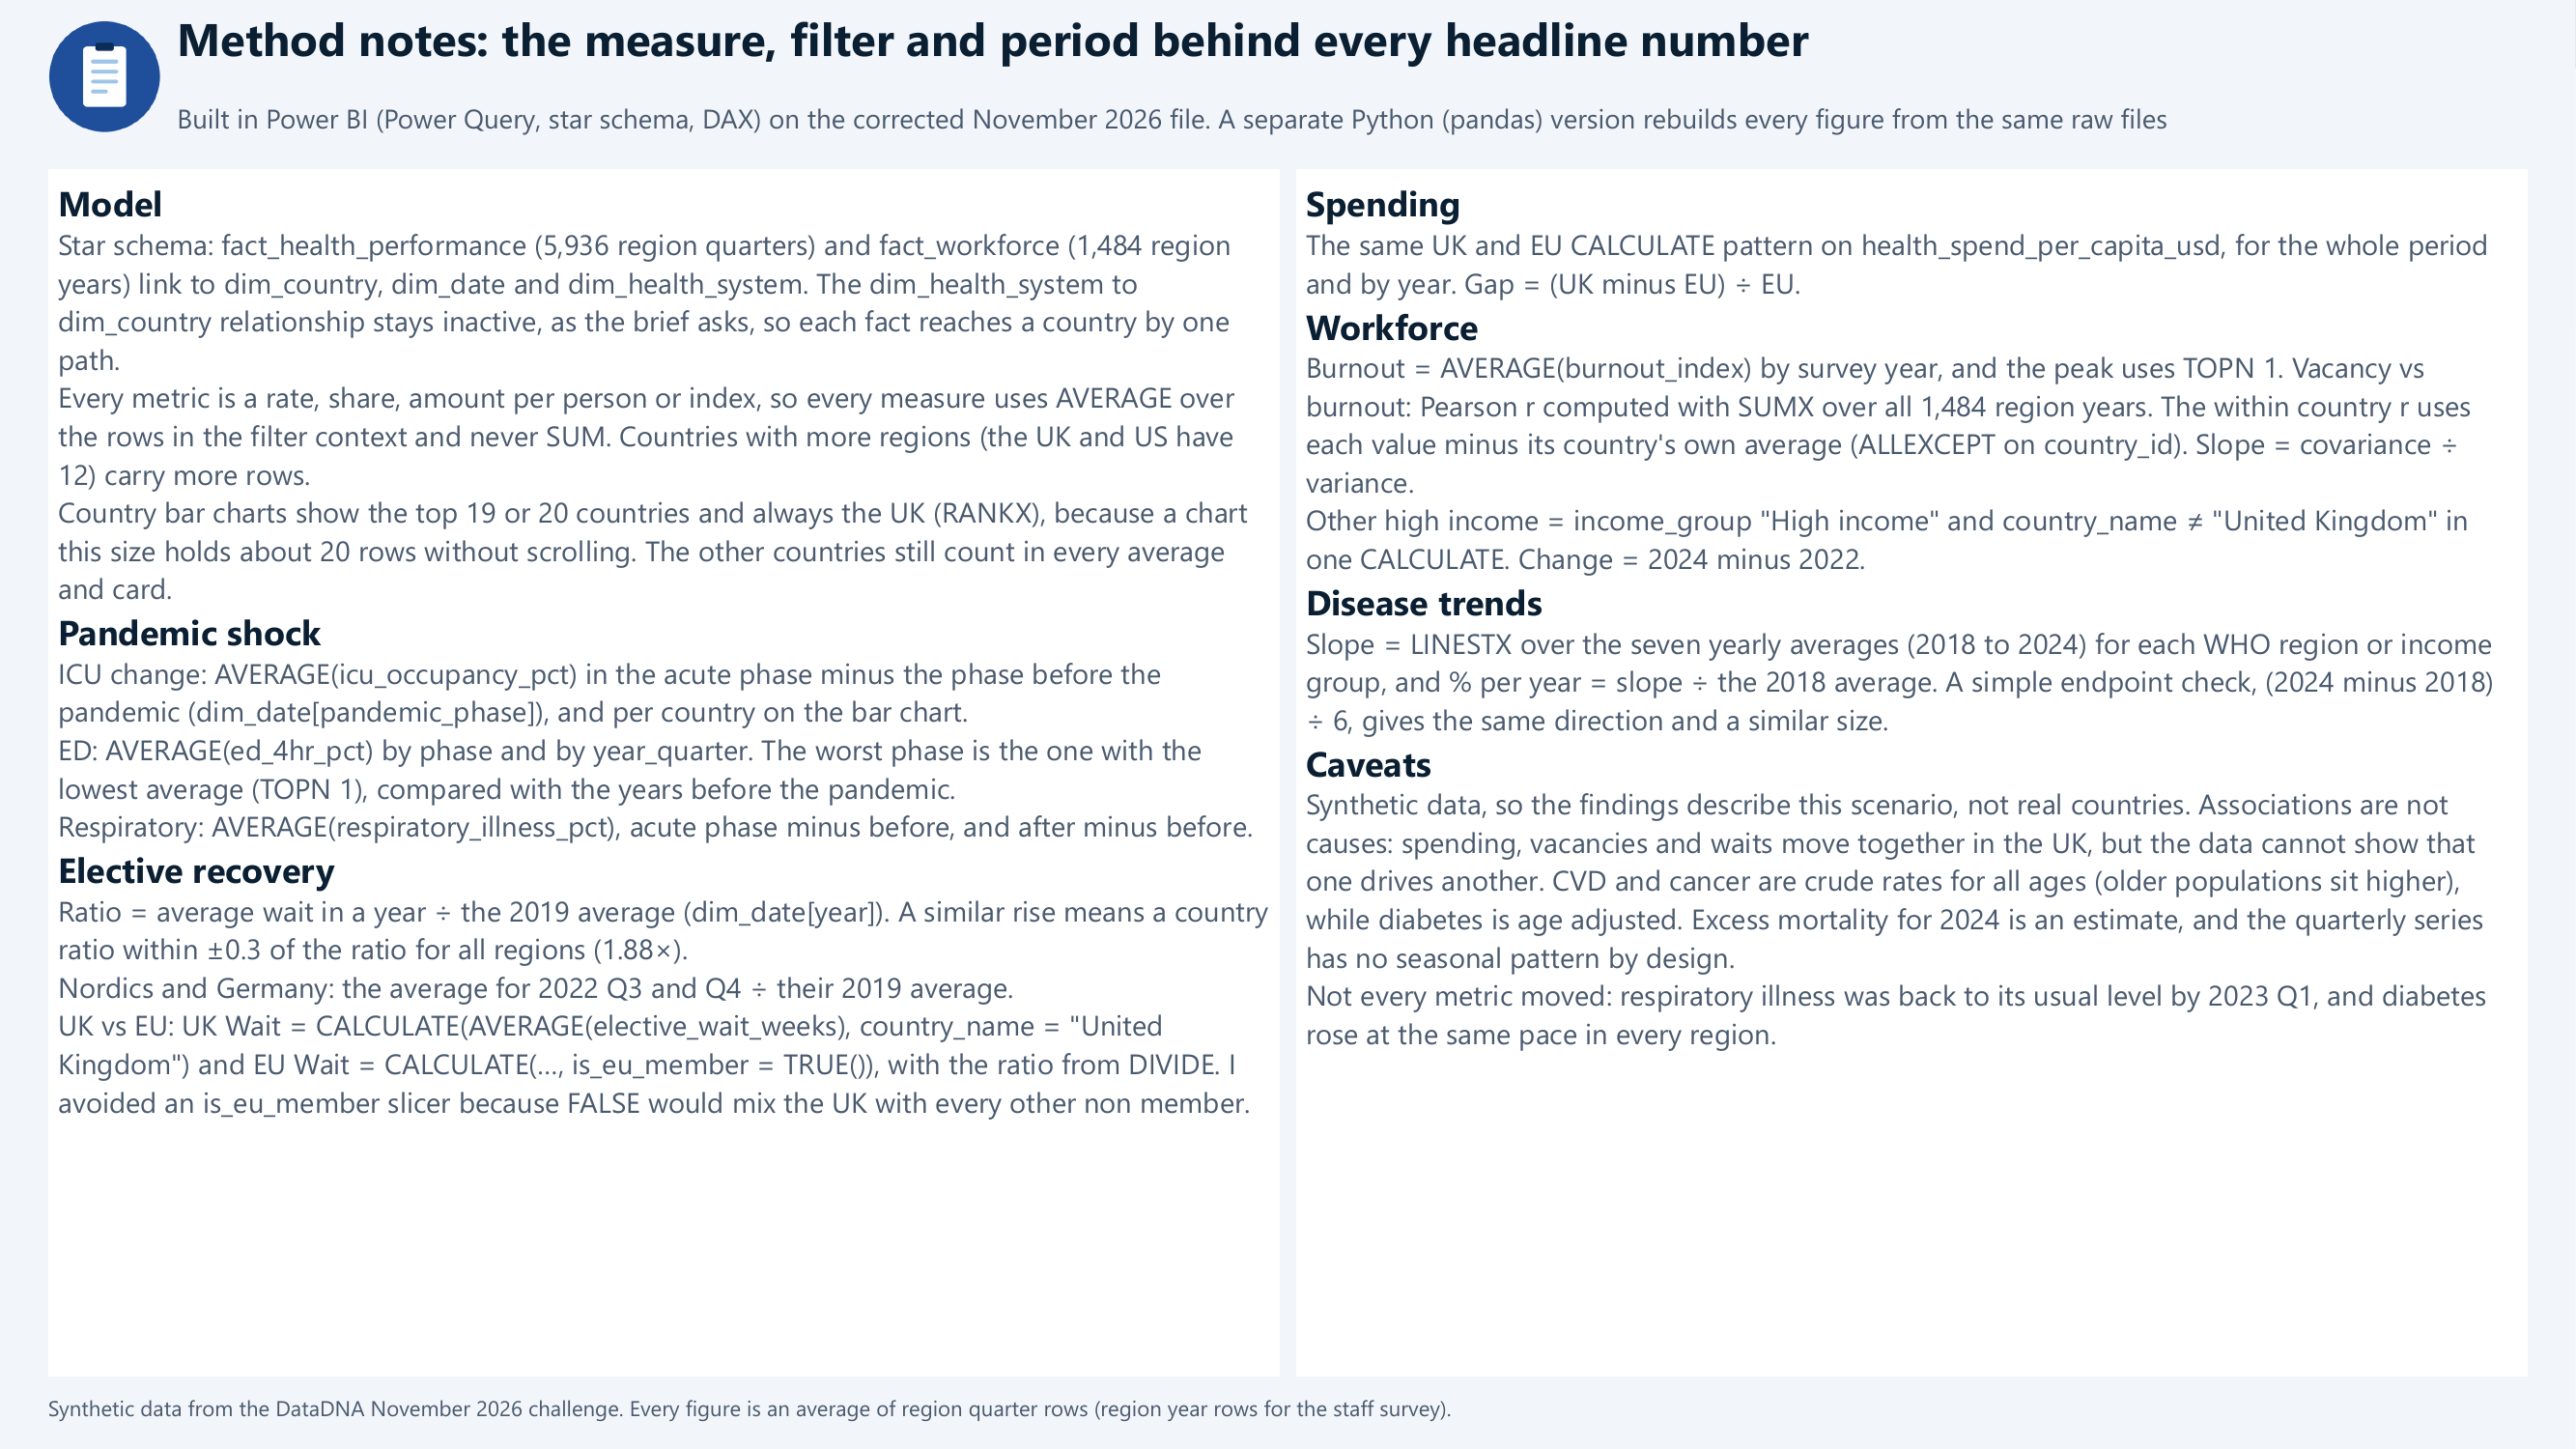

The page's visual inventory and layout, read from the dashboard file:
{"tool":"powerbi","page":{"name":"Method Notes","canvas":[1280,720],"ordinal":5},"visuals":[{"type":"image","box":[24,10,56,56],"z":1000},{"type":"textbox","box":[88,4,1168,46],"z":1001},{"type":"textbox","box":[88,50,1168,26],"z":1002},{"type":"textbox","box":[24,690,1232,28],"z":1003},{"type":"textbox","box":[24,84,612,600],"z":1004},{"type":"textbox","box":[644,84,612,600],"z":1005}]}

Visuals, with their boxes in screenshot pixels (x1, y1, x2, y2), scaled from the page's 1280x720 canvas onto the 2576x1449 screenshot:
image: Rect(48, 20, 161, 133)
textbox: Rect(177, 8, 2528, 100)
textbox: Rect(177, 100, 2528, 153)
textbox: Rect(48, 1389, 2528, 1445)
textbox: Rect(48, 169, 1280, 1377)
textbox: Rect(1296, 169, 2528, 1377)
